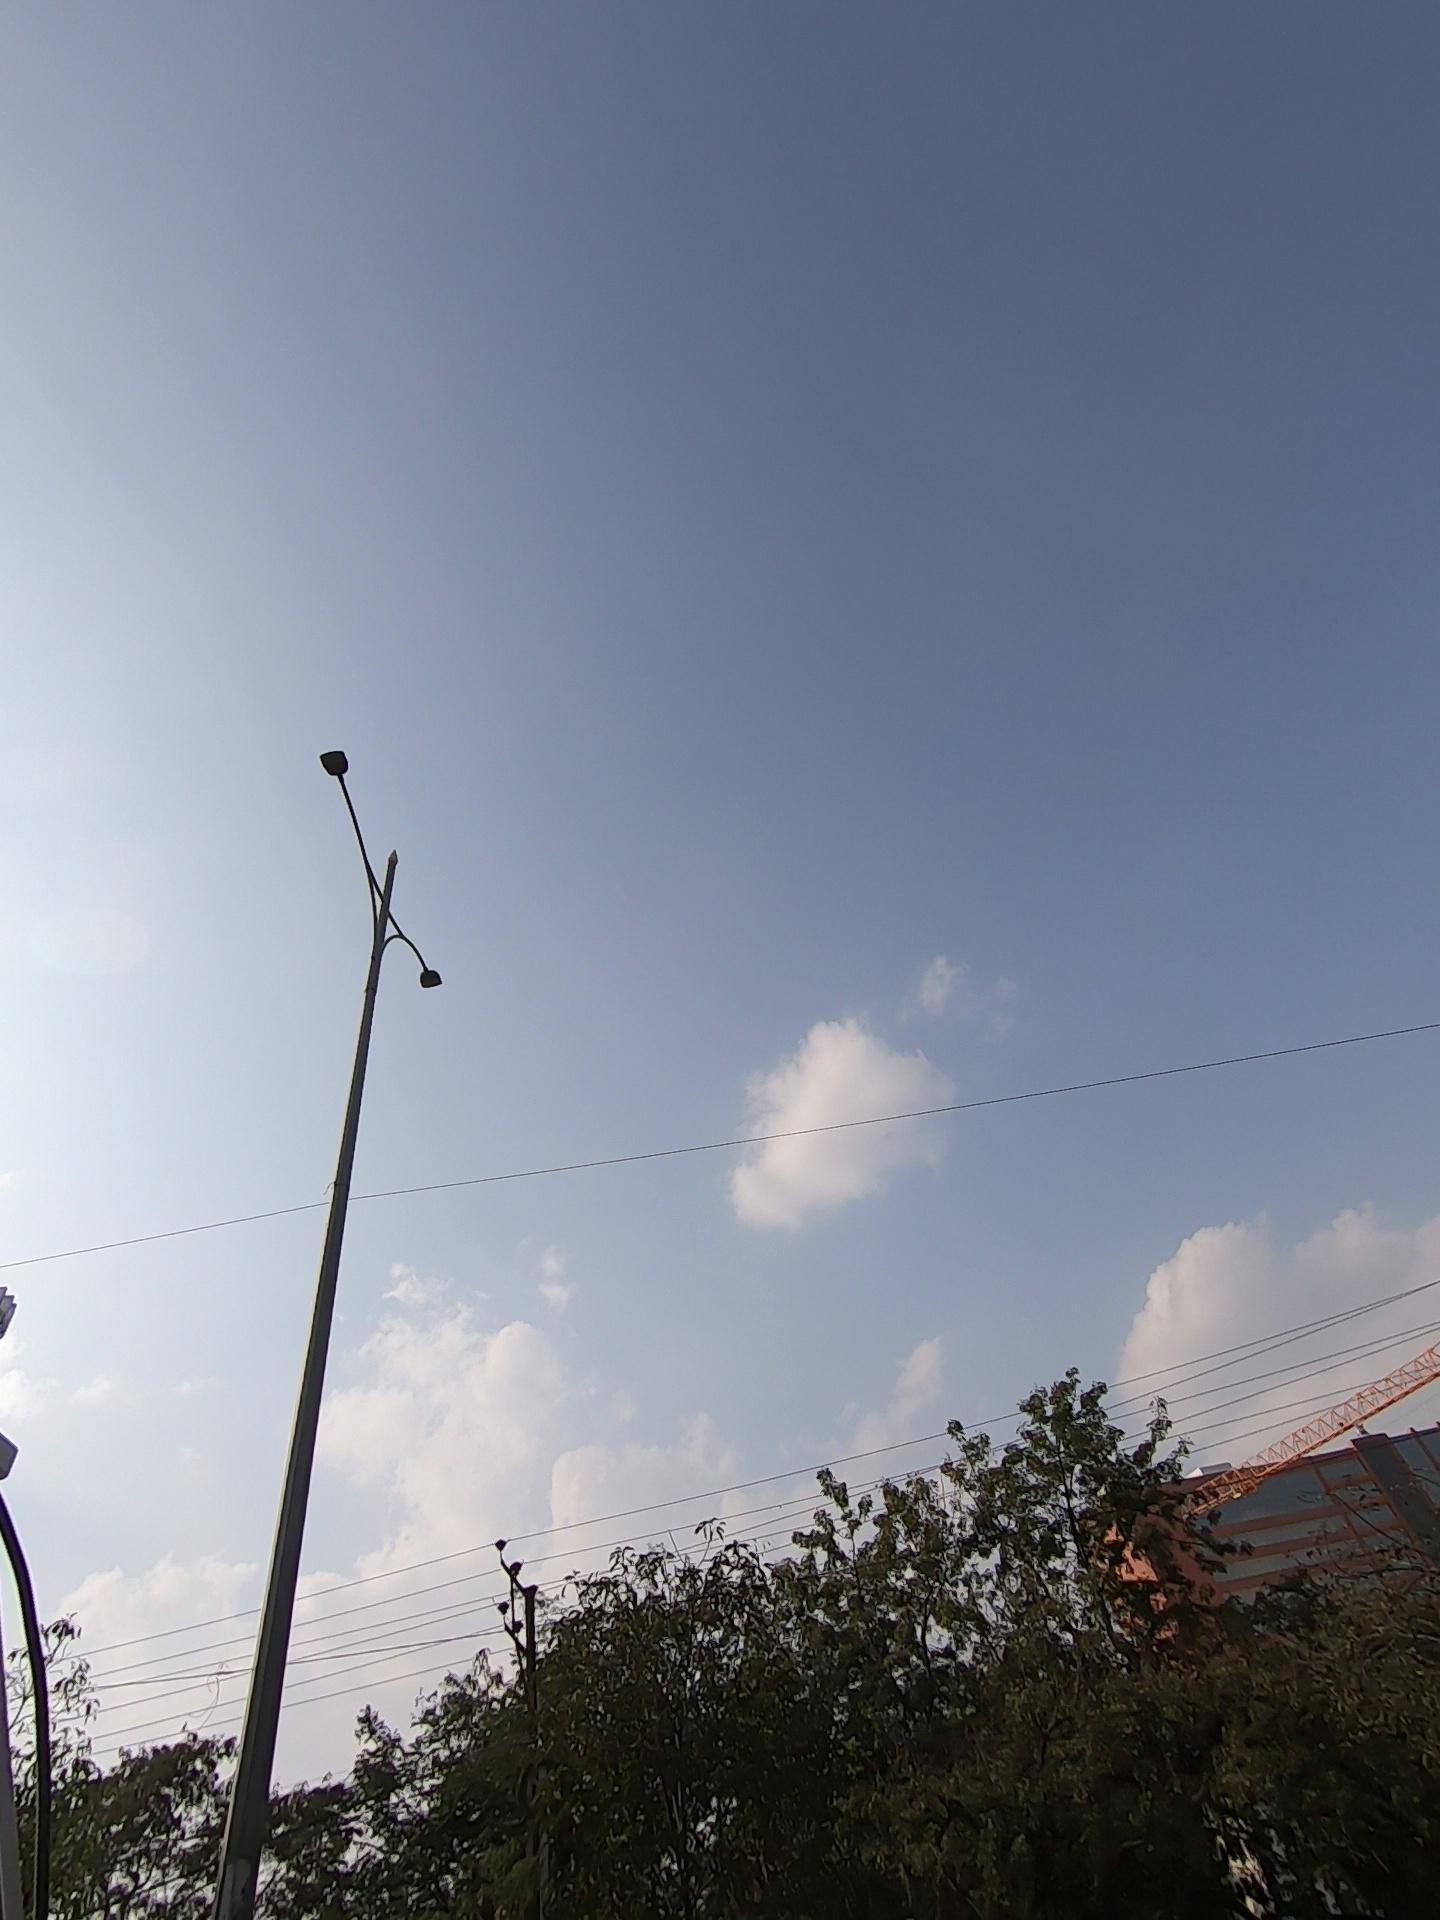off: (280, 694, 579, 1058)
